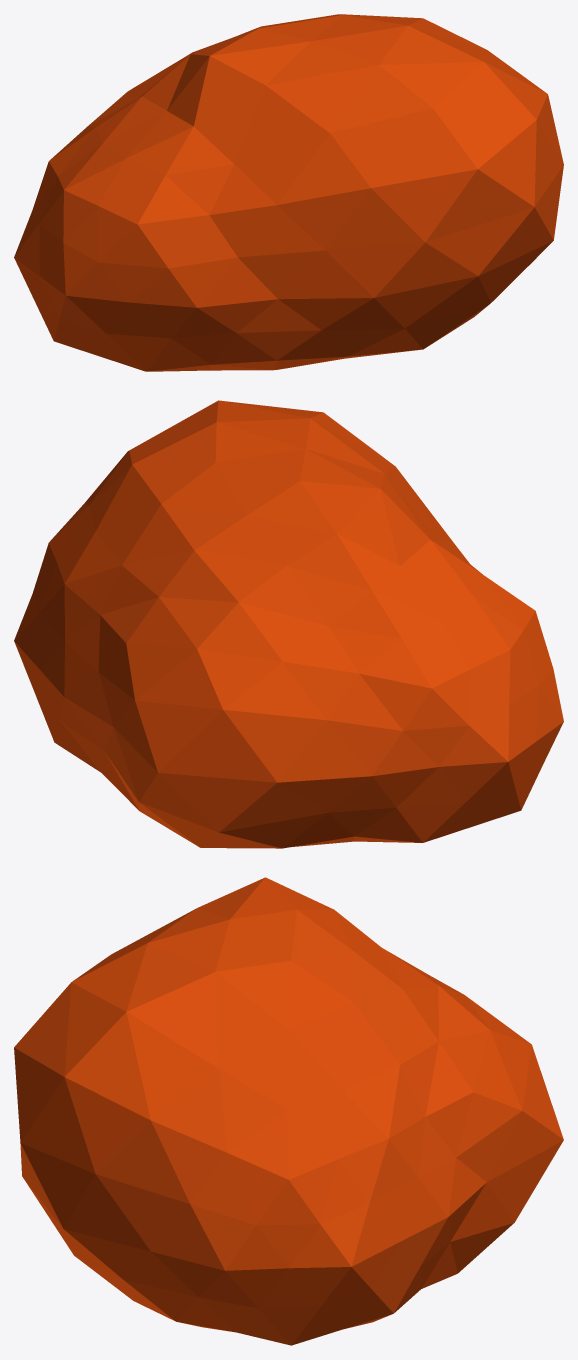
File: Bush2.fbx
3 views of the same model, one above another, from view 1: azimuth 30°, elevation 25°; view 2: azimuth 150°, elevation 25°; view 3: azimuth 270°, elevation 25° (orthographic). The views are drawn at different scales.
Parts seen in each view (by area): view 1: Bush2; view 2: Bush2; view 3: Bush2.
Boxes of the visible parts, box(x1,y1,x2,y2) form: Bush2: box(14, 14, 563, 371); Bush2: box(14, 400, 563, 848); Bush2: box(14, 877, 563, 1345).
Bounding box in the file's own units: 853 × 515 × 745.
